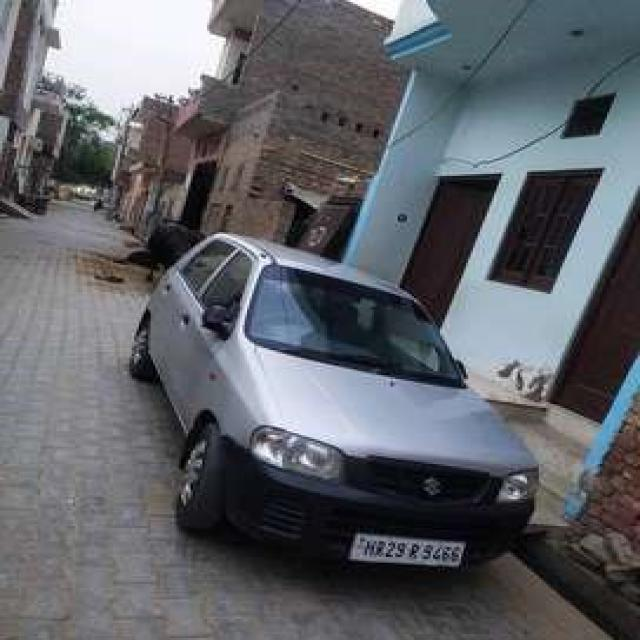plate: (346, 530, 467, 570)
